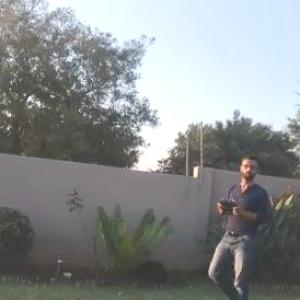follow: (201, 141, 276, 299)
